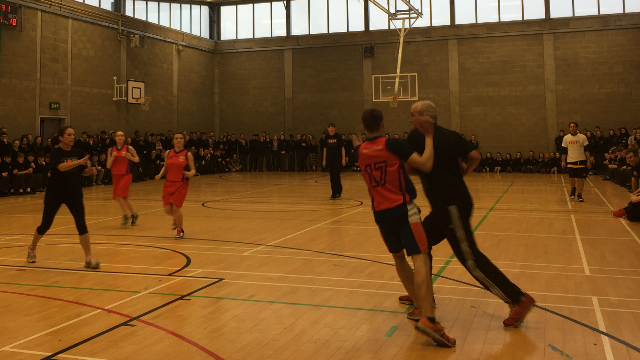basket: (139, 93, 157, 111), (386, 93, 400, 107)
player: (403, 101, 530, 332), (348, 112, 453, 353), (30, 123, 97, 270), (155, 131, 200, 239), (101, 129, 142, 228), (560, 119, 593, 200), (321, 123, 349, 199)
